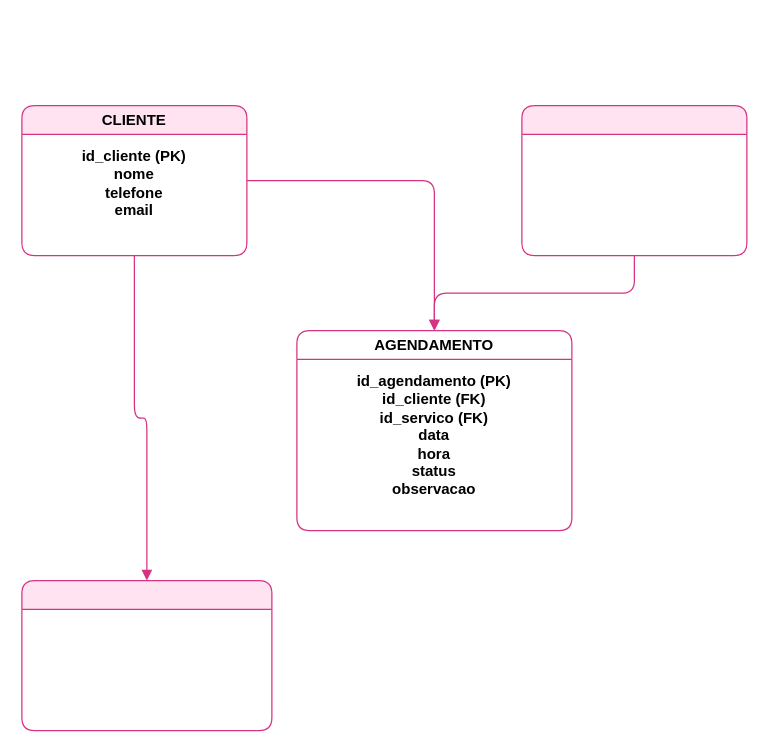
This 769x753 diagram has some shape labels left out. The centre of each missing label's shape, as x and y in pixels:
"AVALIACAO id_avaliacao (PK) id_cliente (FK) nota comentario data_avaliacao" belongs at (146,655).
"SERVICO id_servico (PK) nome preco duracao_minutos" belongs at (634,180).
